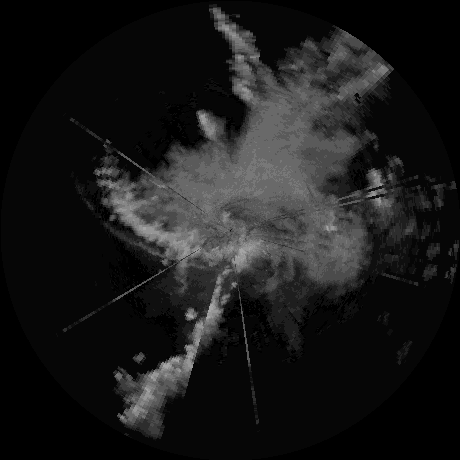frontgust: (87, 204, 163, 257), (188, 263, 222, 273)
